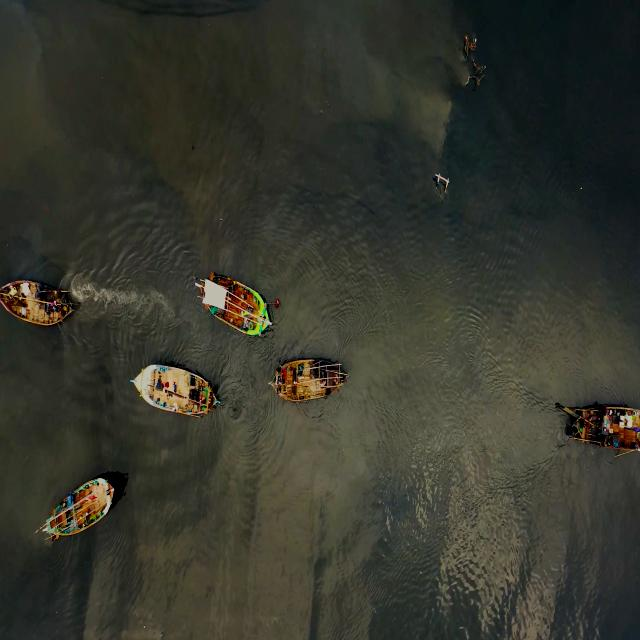ship: (29, 473, 117, 550), (194, 260, 275, 342), (556, 390, 640, 459), (132, 360, 224, 417), (267, 354, 348, 402), (0, 275, 76, 324)
